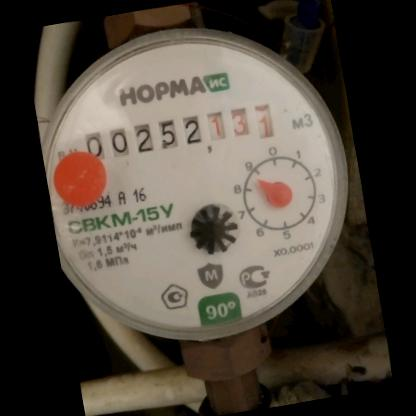digital_screen: (75, 102, 211, 178)
